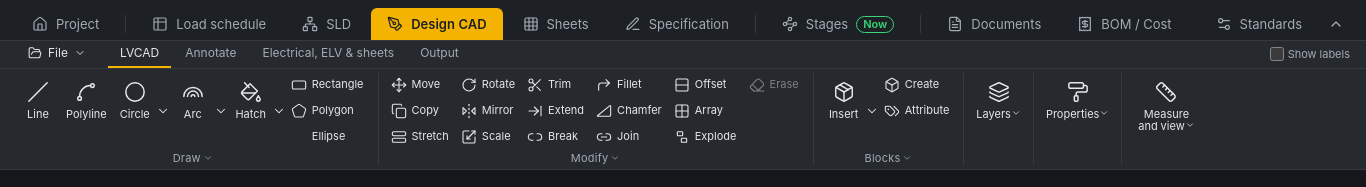
Test case: Design CAD ribbon: the main tools named, every tool's name on hover › shows the current multileader style under Multileader and lists the styles to make another current
The width and height of the screenshot is (1366, 187).
Later steps or results of the test are not shown.
Click the tab "Annotate" at (211, 54), box [173,41,248,68]
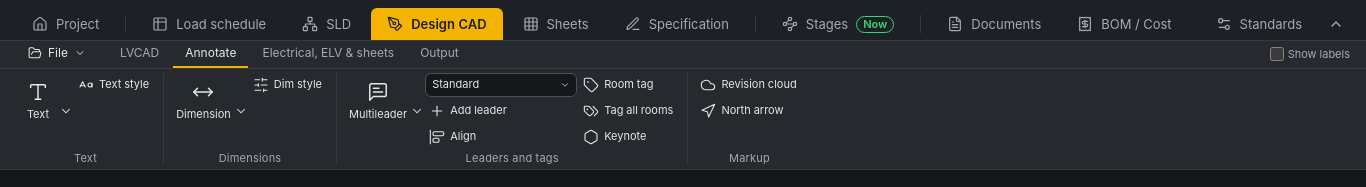
Expected: the text "Standard" is shown, [432,77,479,91]
